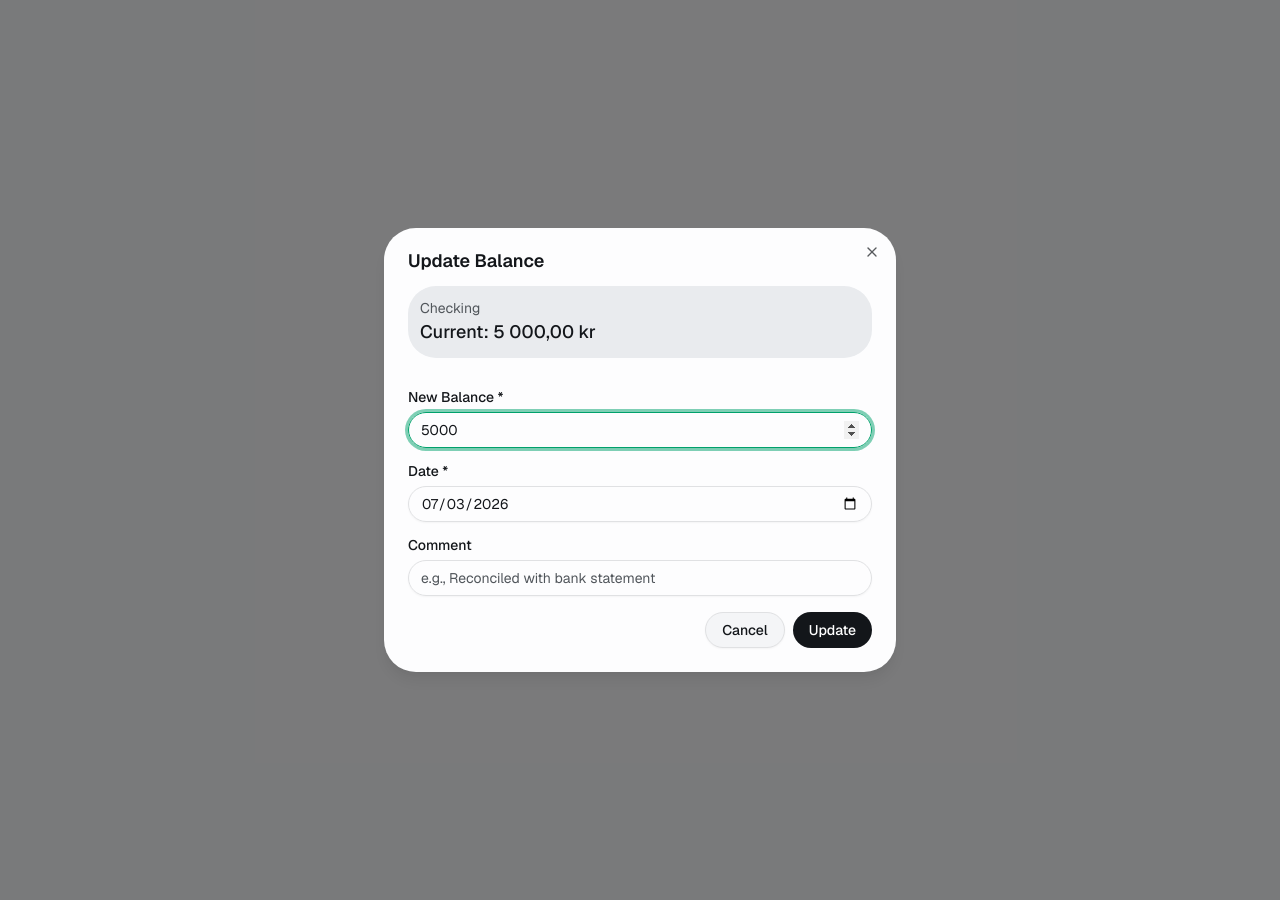
Test: UpdateBalanceModal › shows error for API error response
The width and height of the screenshot is (1280, 900).
Click the button "Update" at (832, 630), box [793,612,872,648]
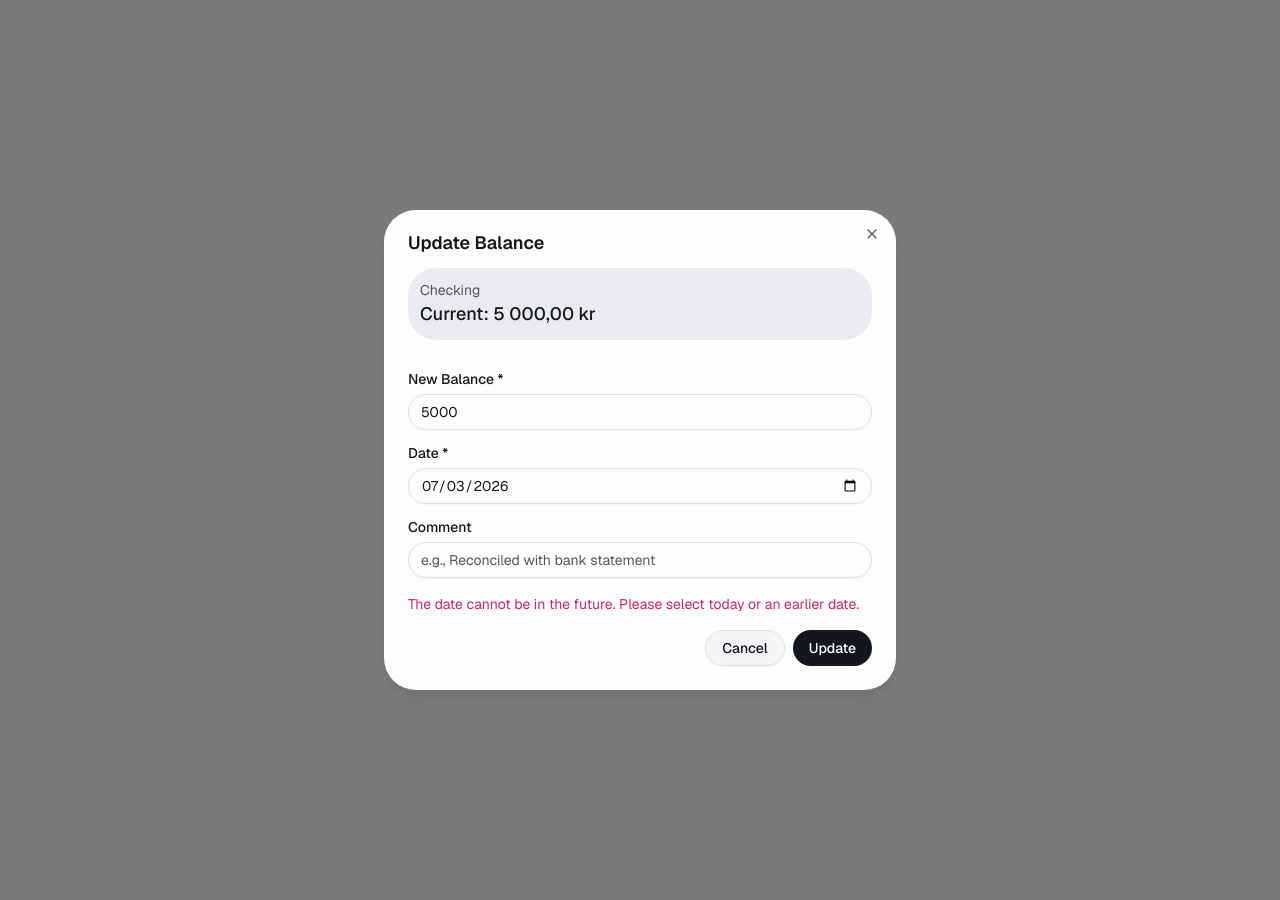
Result: the text "cannot be in the future" is shown at [408,595,859,613]
